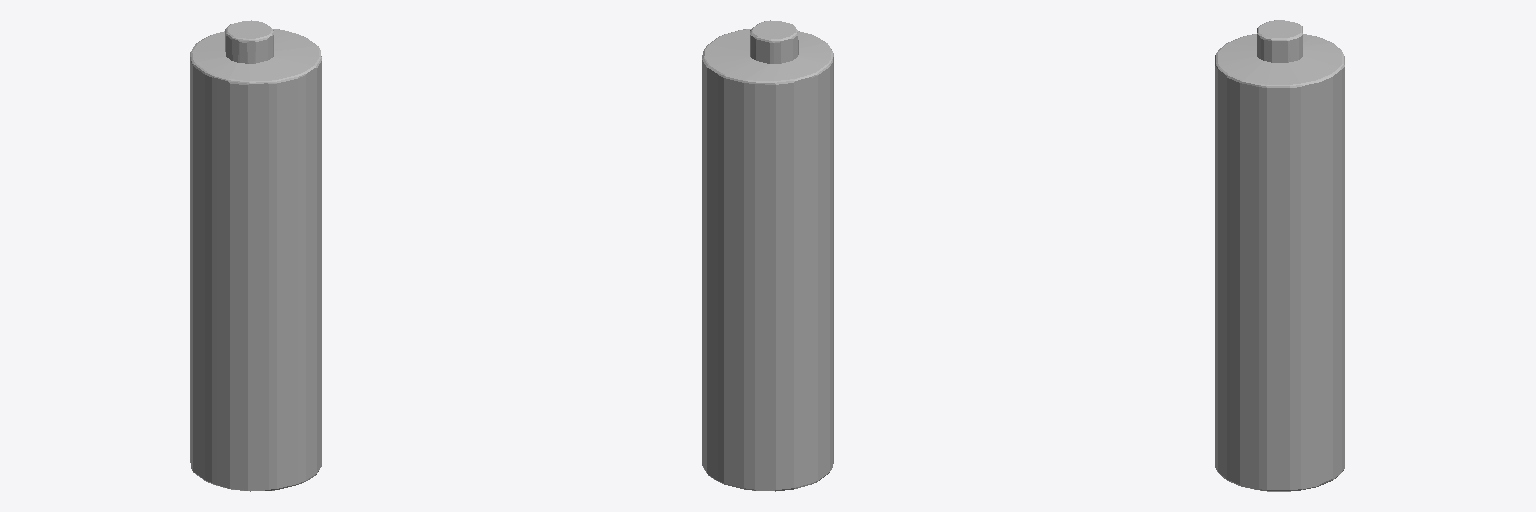
robot.urdf — root:
<?xml version="1.0"?>
<robot name="root">
  <link name="base_link">
    <visual>
      <origin xyz="0 0 0" rpy="0 0 0" />
      <geometry>
        <mesh filename="../meshes/unidex_sem_Battery-f8a093851f146122dd4616bdfbd70670_010.obj" scale="1.0000E+00 1.0000E+00 1.0000E+00" />
      </geometry>
      <material name="">
        <color rgba="7.50E-01 7.50E-01 7.50E-01 1" />
      </material>
    </visual>
    <collision>
      <origin xyz="0 0 0" rpy="0 0 0" />
      <geometry>
        <mesh filename="../meshes/unidex_sem_Battery-f8a093851f146122dd4616bdfbd70670_010.obj" scale="1.0000E+00 1.0000E+00 1.0000E+00" />
      </geometry>
    </collision>
  </link>
</robot>

--- Render facts (derived) ---
3 views of the same robot in one strip: view 1: azimuth 30°, elevation 25°; view 2: azimuth 150°, elevation 25°; view 3: azimuth 270°, elevation 25° (orthographic).
Robot: root — 1 links, 0 joints (none); root link base_link; default pose: all joints at 0.
Visible links, largest first — view 1: base_link; view 2: base_link; view 3: base_link.
Link boxes in pixels (x1,y1,x2,y2): base_link: [190, 20, 321, 491]; base_link: [702, 20, 833, 491]; base_link: [1215, 20, 1344, 491].
Bounding box of the posed robot: 0.0514 × 0.0514 × 0.1893 m (x, y, z).
Meshes: 1 distinct files referenced, 1 mesh visuals loaded (1 OBJ).
